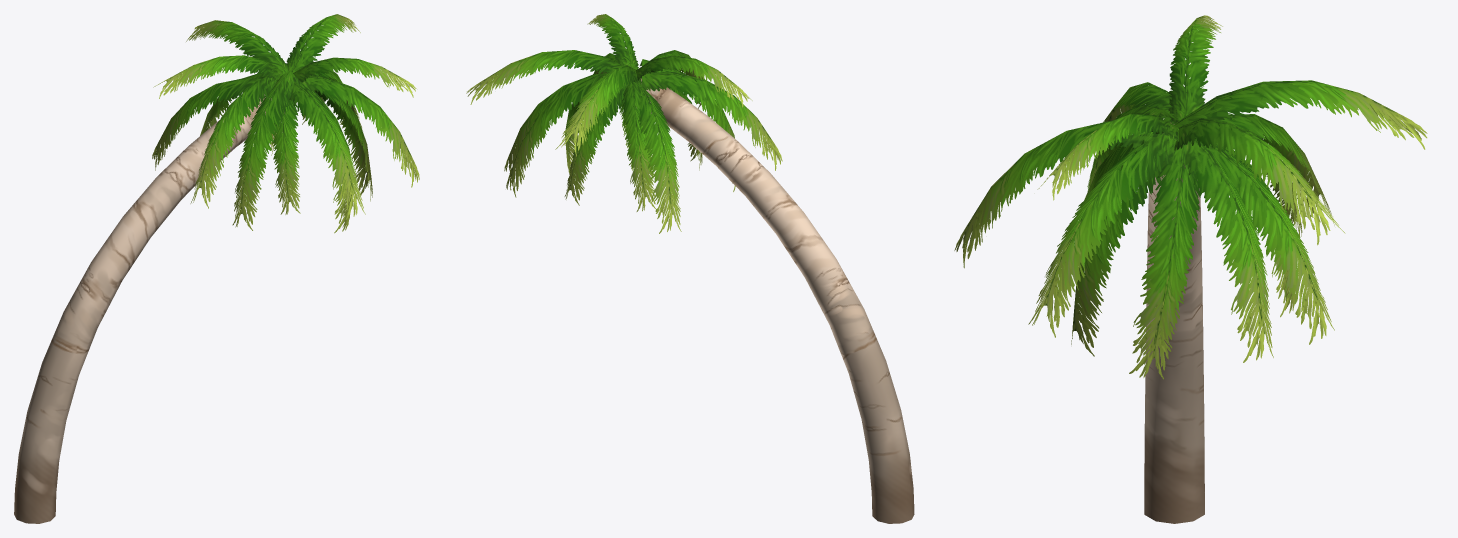
The picture shows the model from 3 angles, left to right: view 1: azimuth 30°, elevation 25°; view 2: azimuth 150°, elevation 25°; view 3: azimuth 270°, elevation 25°; orthographic projection. The views are drawn at different scales.
Visible parts, largest first — view 1: tree3; view 2: tree3; view 3: tree3.
Part boxes in pixels (x1=…): tree3: x1=14, y1=14, x2=419, y2=523; tree3: x1=466, y1=14, x2=914, y2=523; tree3: x1=954, y1=15, x2=1427, y2=523.
Bounding box in the file's own units: 2.57 × 2.52 × 1.84.
1 material, 1 textured.
